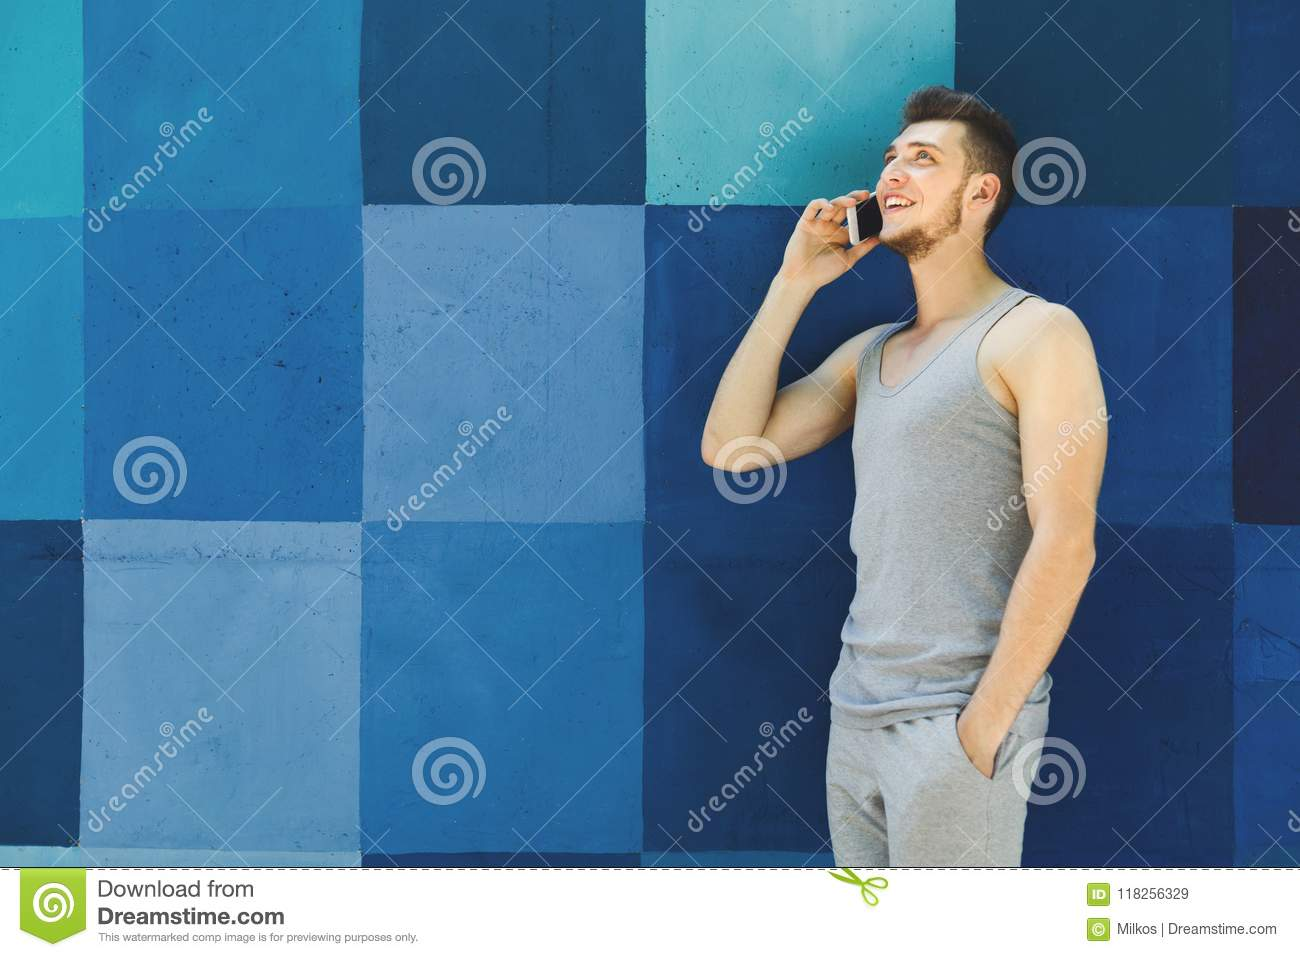phone: (842, 175, 888, 259)
talk: (779, 135, 957, 278)
